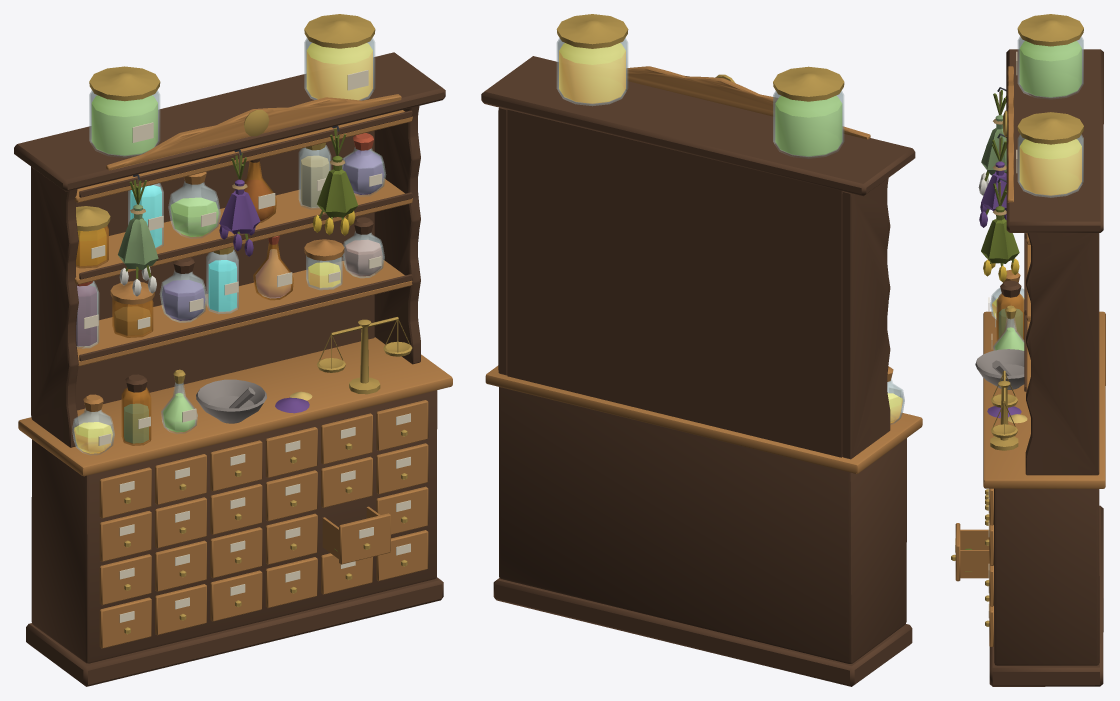
The model's file is deco_apothecary_shelf.fbx.
3 views of the same model, side by side, from view 1: azimuth 30°, elevation 25°; view 2: azimuth 150°, elevation 25°; view 3: azimuth 270°, elevation 25° (orthographic). The views are drawn at different scales.
Visible parts, largest first — view 1: ApothecaryShelf_Shelf, ApothecaryShelf_Drawers, ApothecaryShelf_Jars, ApothecaryShelf_Liquids, ApothecaryShelf_Herbs, ApothecaryShelf_CounterTools; view 2: ApothecaryShelf_Shelf, ApothecaryShelf_Jars, ApothecaryShelf_Liquids; view 3: ApothecaryShelf_Shelf, ApothecaryShelf_Jars, ApothecaryShelf_Liquids, ApothecaryShelf_Herbs, ApothecaryShelf_CounterTools, ApothecaryShelf_Drawers.
Part boxes in pixels (bbox=[...]): ApothecaryShelf_Shelf: bbox=[14, 52, 452, 686]; ApothecaryShelf_Drawers: bbox=[99, 400, 428, 648]; ApothecaryShelf_Jars: bbox=[72, 14, 386, 455]; ApothecaryShelf_Liquids: bbox=[74, 43, 383, 453]; ApothecaryShelf_Herbs: bbox=[118, 125, 358, 296]; ApothecaryShelf_CounterTools: bbox=[196, 317, 412, 423]; ApothecaryShelf_Shelf: bbox=[481, 56, 922, 686]; ApothecaryShelf_Jars: bbox=[556, 14, 904, 424]; ApothecaryShelf_Liquids: bbox=[559, 43, 902, 423]; ApothecaryShelf_Shelf: bbox=[983, 49, 1105, 686]; ApothecaryShelf_Jars: bbox=[988, 14, 1083, 350]; ApothecaryShelf_Liquids: bbox=[992, 41, 1081, 350]; ApothecaryShelf_Herbs: bbox=[978, 87, 1019, 282]; ApothecaryShelf_CounterTools: bbox=[975, 349, 1027, 450]; ApothecaryShelf_Drawers: bbox=[951, 488, 993, 646].
Size of the model in its own units: 196 by 280 by 73.34.
